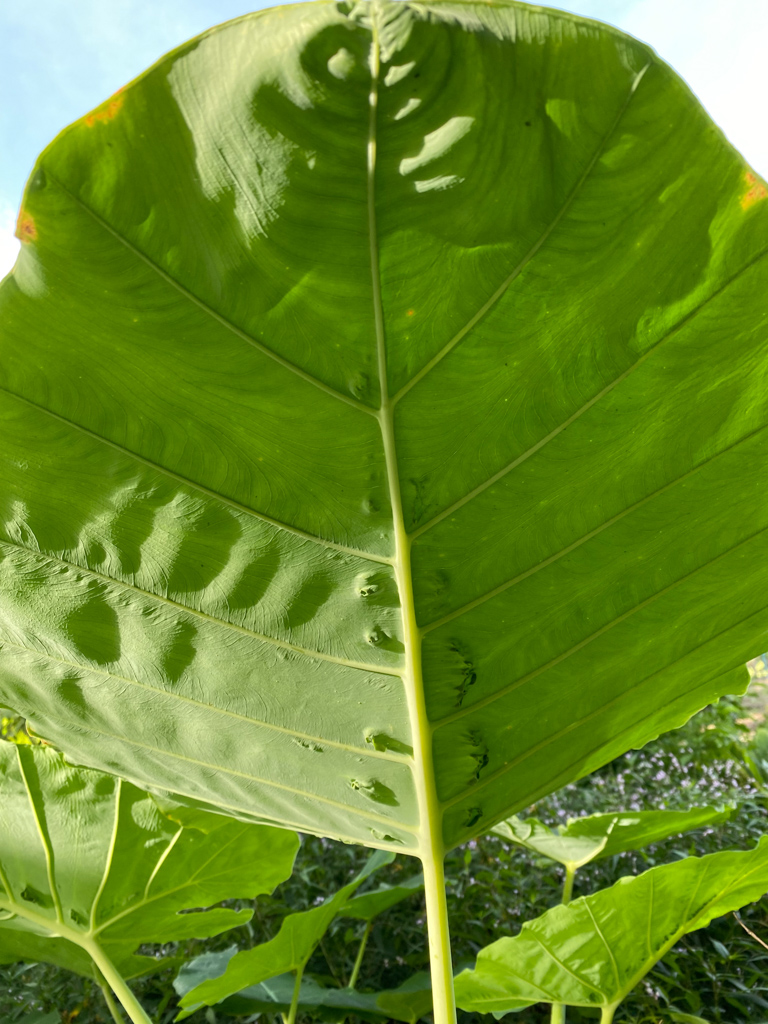Pepper yellow leaf: (68, 69, 144, 142), (729, 137, 765, 231), (5, 187, 44, 259)
